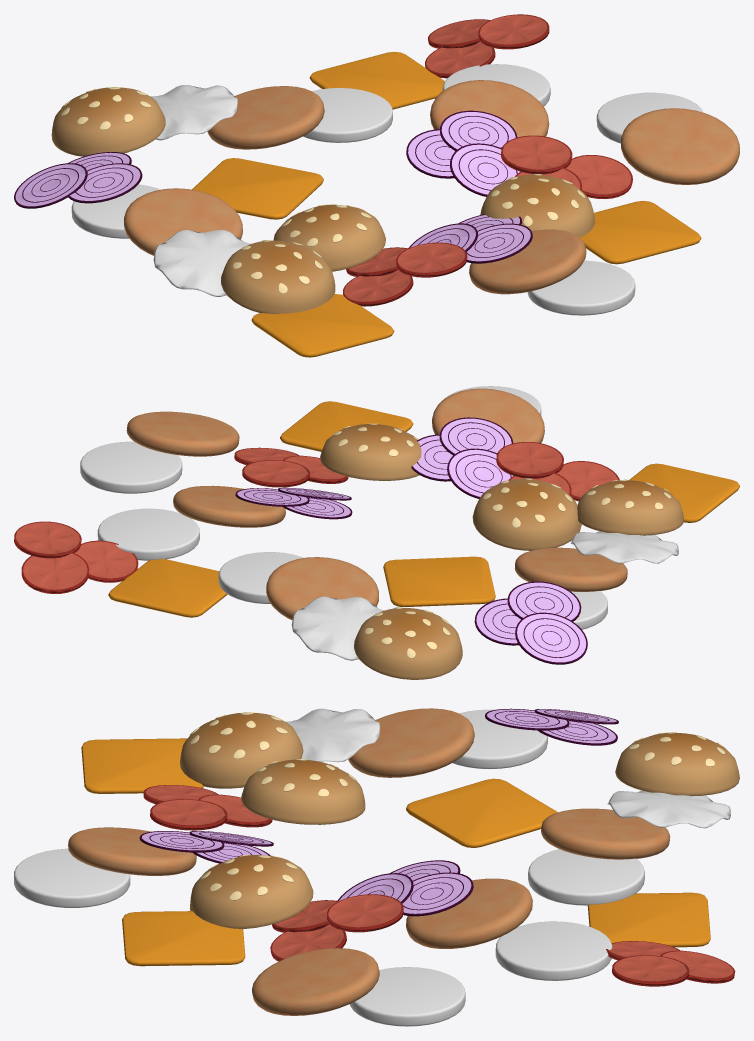
File: messy food.fbx
3 views of the same model, one above another, from view 1: azimuth 30°, elevation 25°; view 2: azimuth 150°, elevation 25°; view 3: azimuth 270°, elevation 25° (orthographic). The views are drawn at different scales.
Parts seen in each view (by area): view 1: chicken patty.034, top burger bun w/ sesame.042, onions.016, top burger bun w/ sesame.044, chicken patty.032, cheese.021, cheese.018, cheese.019, chicken patty.030, top burger bun w/ sesame.043, onions.018, top burger bun w/ sesame.045 (+14 smaller); view 2: onions.018, top burger bun w/ sesame.044, top burger bun w/ sesame.045, tomatoes.018, onions.017, cheese.018, top burger bun w/ sesame.042, top burger bun w/ sesame.043, cheese.020, chicken patty.032, bottom bun.058, bottom bun.055 (+13 smaller); view 3: top burger bun w/ sesame.043, top burger bun w/ sesame.042, chicken patty.034, top burger bun w/ sesame.045, cheese.018, top burger bun w/ sesame.044, chicken patty.030, cheese.019, bottom bun.055, chicken patty.031, cheese.020, cheese.021 (+14 smaller).
Boxes of the visible parts, box(x1,y1,x2,y2) form: chicken patty.034: box(621, 108, 739, 184); top burger bun w/ sesame.042: box(221, 240, 335, 313); onions.016: box(406, 110, 519, 196); top burger bun w/ sesame.044: box(51, 87, 165, 156); chicken patty.032: box(207, 86, 324, 149); cheese.021: box(251, 294, 394, 357); cheese.018: box(192, 158, 323, 219); cheese.019: box(580, 201, 701, 264); chicken patty.030: box(124, 188, 242, 255); top burger bun w/ sesame.043: box(480, 174, 595, 237); onions.018: box(14, 152, 142, 208); top burger bun w/ sesame.045: box(273, 204, 385, 271); onions.018: box(474, 581, 587, 664); top burger bun w/ sesame.044: box(354, 607, 462, 679); top burger bun w/ sesame.045: box(472, 478, 581, 550); tomatoes.018: box(14, 521, 138, 593); onions.017: box(411, 417, 513, 498); cheese.018: box(383, 556, 495, 607); top burger bun w/ sesame.042: box(577, 479, 683, 535); top burger bun w/ sesame.043: box(320, 423, 421, 480); cheese.020: box(108, 559, 227, 617); chicken patty.032: box(266, 557, 378, 619); bottom bun.058: box(80, 441, 182, 493); bottom bun.055: box(97, 508, 199, 560); top burger bun w/ sesame.043: box(190, 854, 313, 929); top burger bun w/ sesame.042: box(180, 712, 303, 788); chicken patty.034: box(252, 948, 379, 1015); top burger bun w/ sesame.045: box(241, 759, 365, 824); cheese.018: box(406, 778, 557, 847); top burger bun w/ sesame.044: box(615, 732, 739, 796); chicken patty.030: box(348, 708, 474, 777); cheese.019: box(122, 911, 245, 966); bottom bun.055: box(495, 921, 612, 980); chicken patty.031: box(406, 878, 532, 948); cheese.020: box(587, 892, 710, 947); cheese.021: box(81, 738, 203, 793).
Bounding box in the file's own units: 149 × 11.06 × 144.
